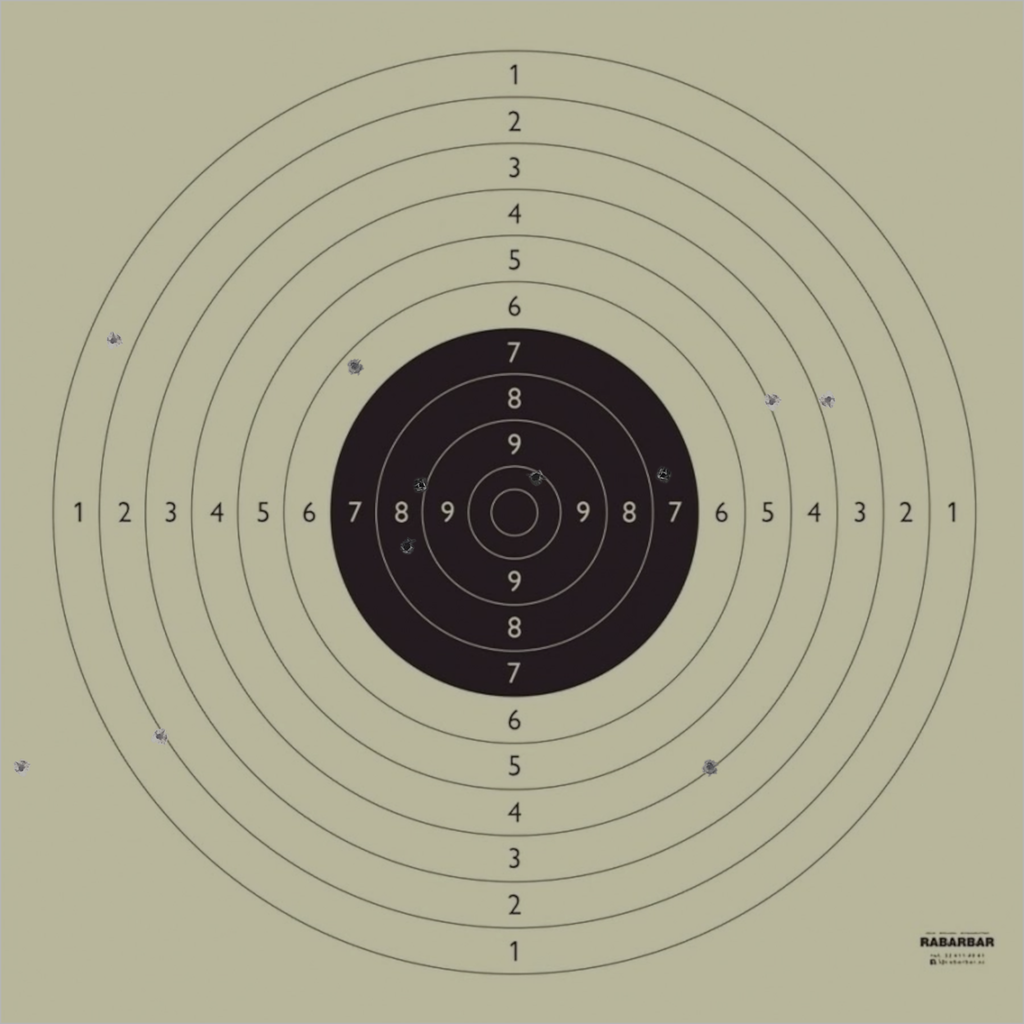0 punktow: (12, 759, 31, 777)
1 punkt: (104, 331, 123, 350)
10 punktow: (527, 468, 545, 486)
2 punkty: (151, 727, 169, 746)
3 punkty: (819, 391, 837, 409)
4 punkty: (701, 758, 719, 776)
5 punktow: (763, 392, 781, 411)
6 punktow: (346, 357, 364, 375)
7 punktow: (654, 466, 672, 485)
8 punktow: (398, 537, 416, 556)
9 punktow: (412, 476, 431, 495)
